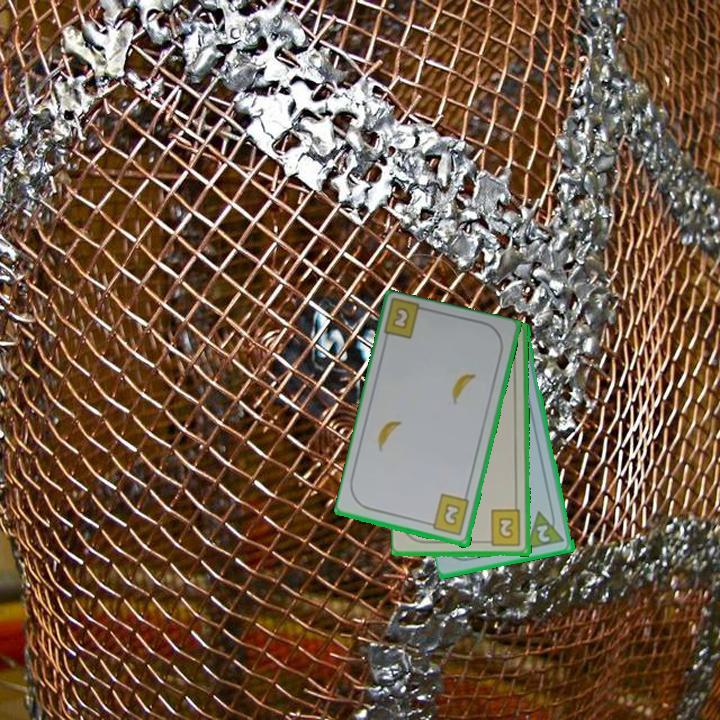2b: (424, 491, 472, 539), (482, 507, 524, 549), (391, 306, 411, 330)
2p: (533, 522, 553, 546)
